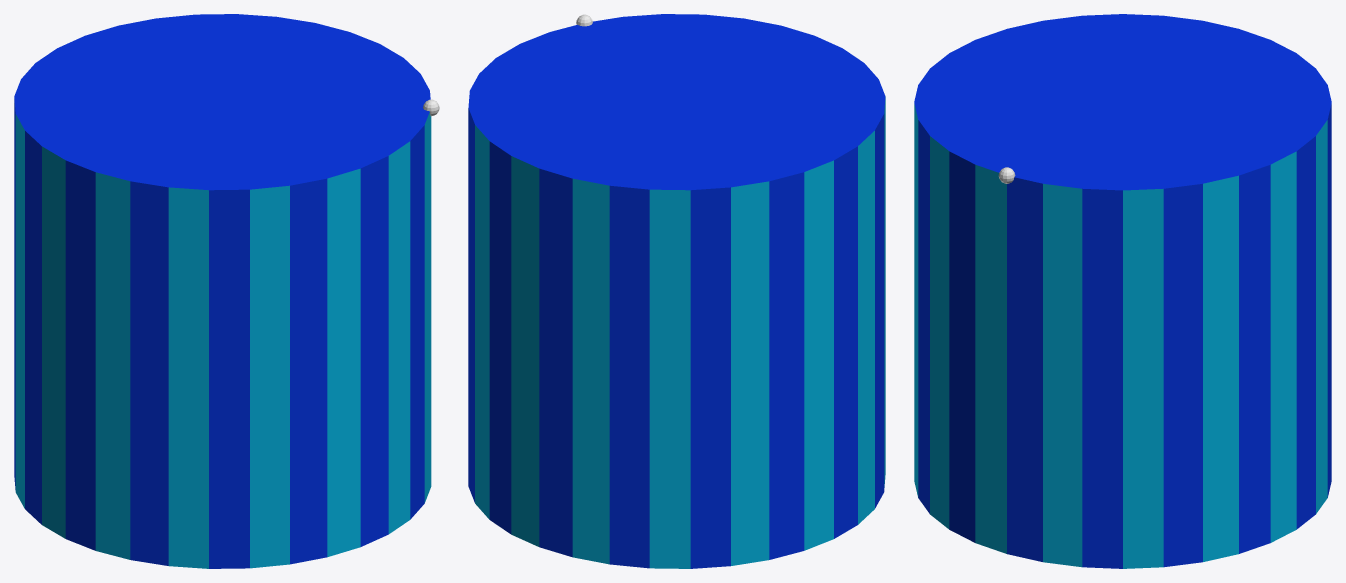
3 renders of one model, left to right at view 1: azimuth 30°, elevation 25°; view 2: azimuth 150°, elevation 25°; view 3: azimuth 270°, elevation 25°, orthographic.
Visible parts, largest first — view 1: Cylinder; view 2: Cylinder; view 3: Cylinder.
Boxes of the visible parts, x1,y1,x2,y2 form: Cylinder: [14, 14, 431, 568]; Cylinder: [468, 14, 885, 568]; Cylinder: [914, 14, 1331, 568].
Size of the model in its own units: 2 by 2.04 by 2.
